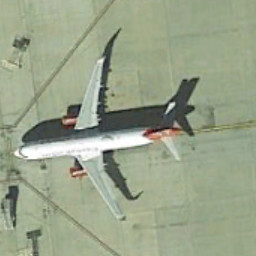Airplane: (8, 51, 201, 229)
